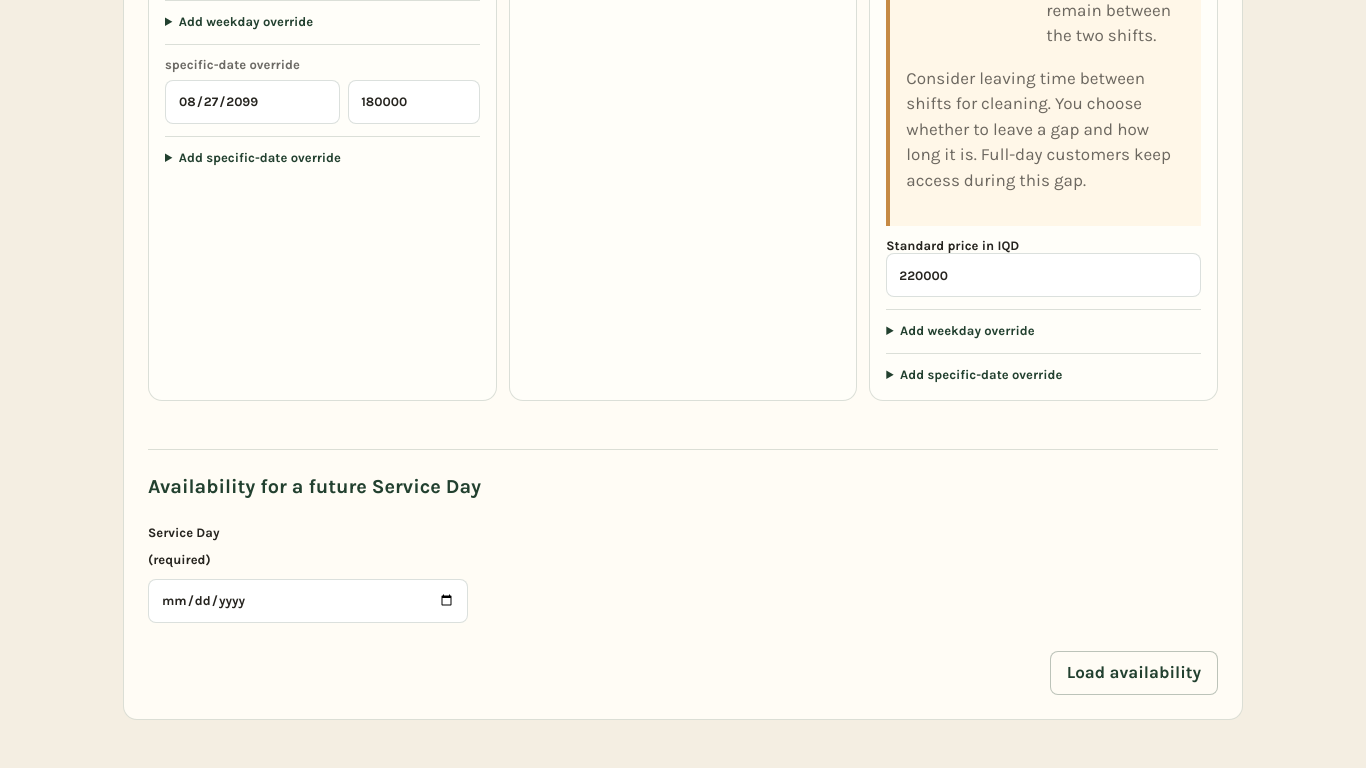
it: Cottage Pricing and Availability editor › loads authoritative dated state without exposing read-only availability writes
(page scrolled)
Type "2099-08-20" into the date field labelled "Service Day (required)" at (308, 601), box [148,579,468,623]
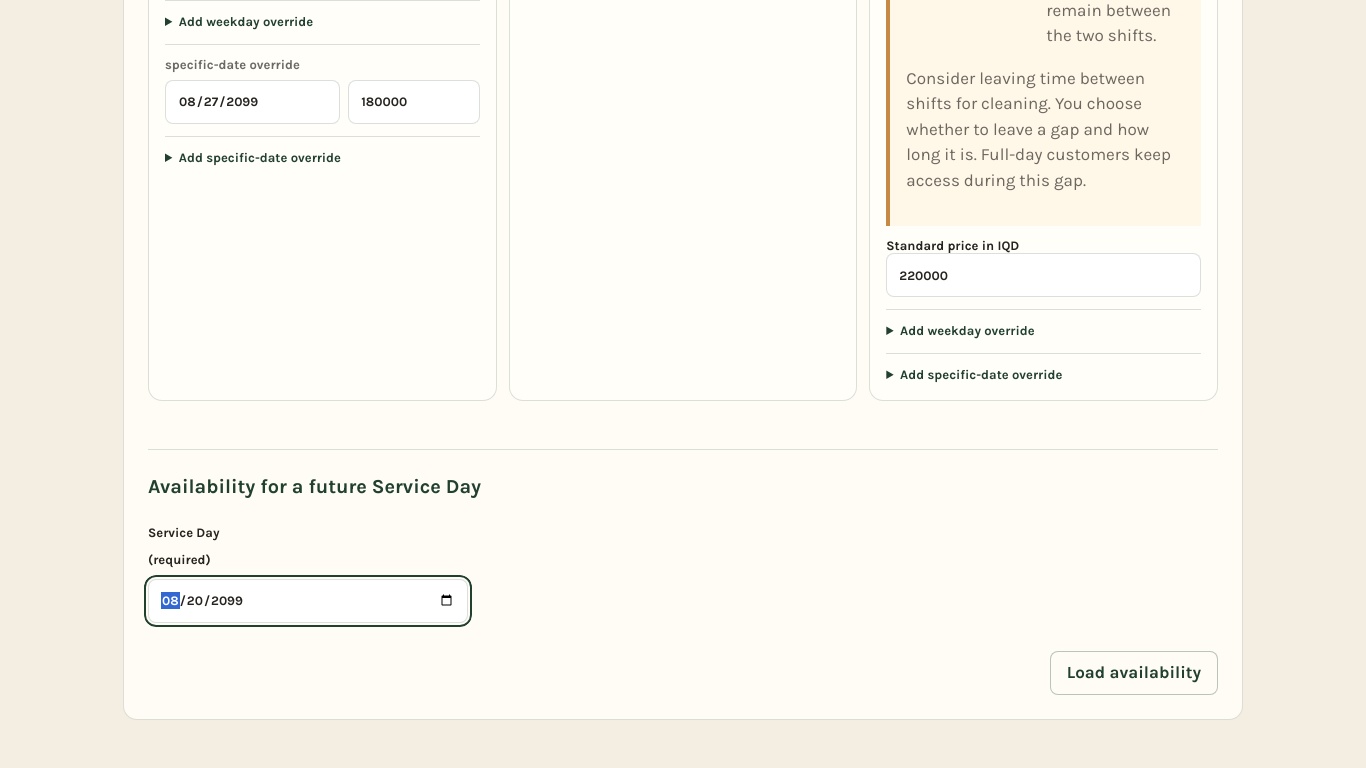
Click the button "Load availability" at (1134, 673), box [1050,651,1218,695]
(page scrolled)
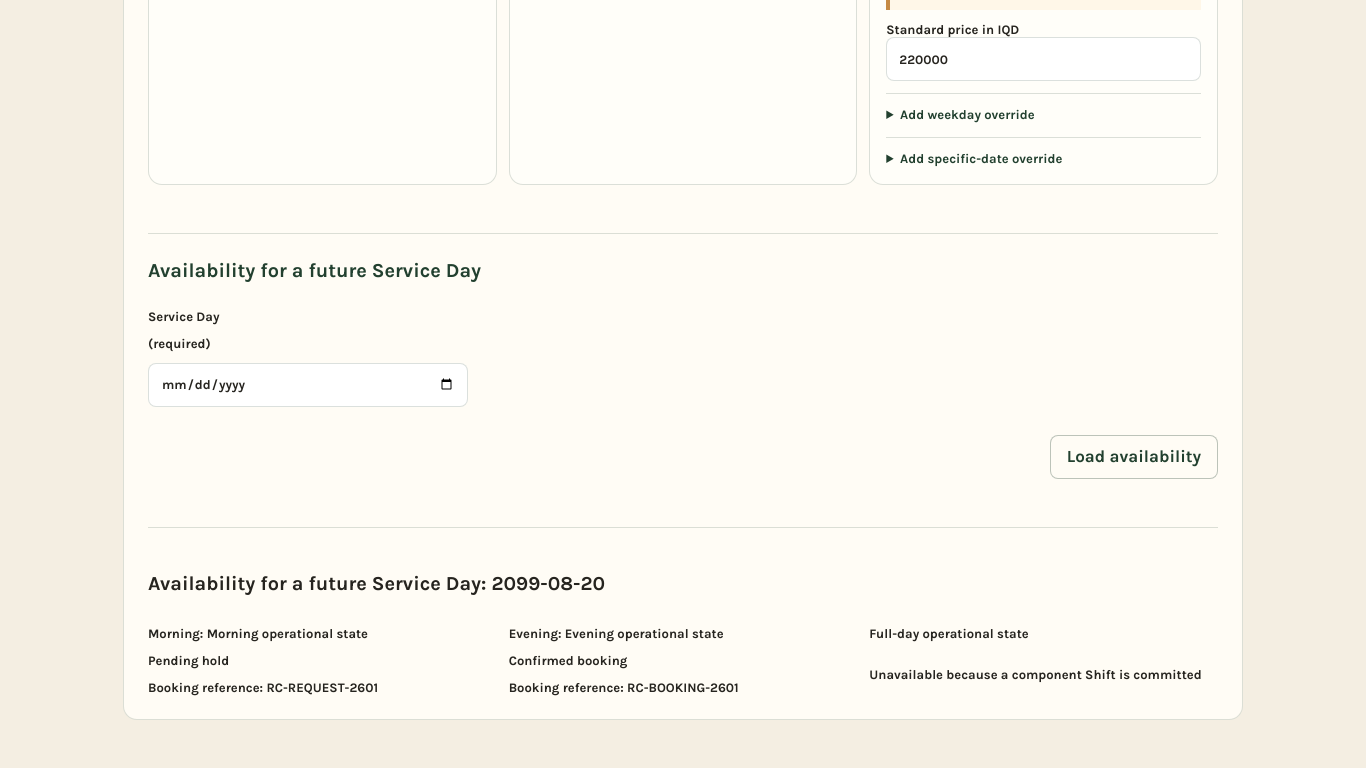
expect the text named "Morning: Morning operational state" reads "Pending hold": met, box [148,653,229,668]
expect the text named "Evening: Evening operational state" reads "Confirmed booking": met, box [509,653,627,668]
expect the text "RC-REQUEST-2601" reads "Booking reference: RC-REQUEST-2601": met, box [148,680,378,695]
